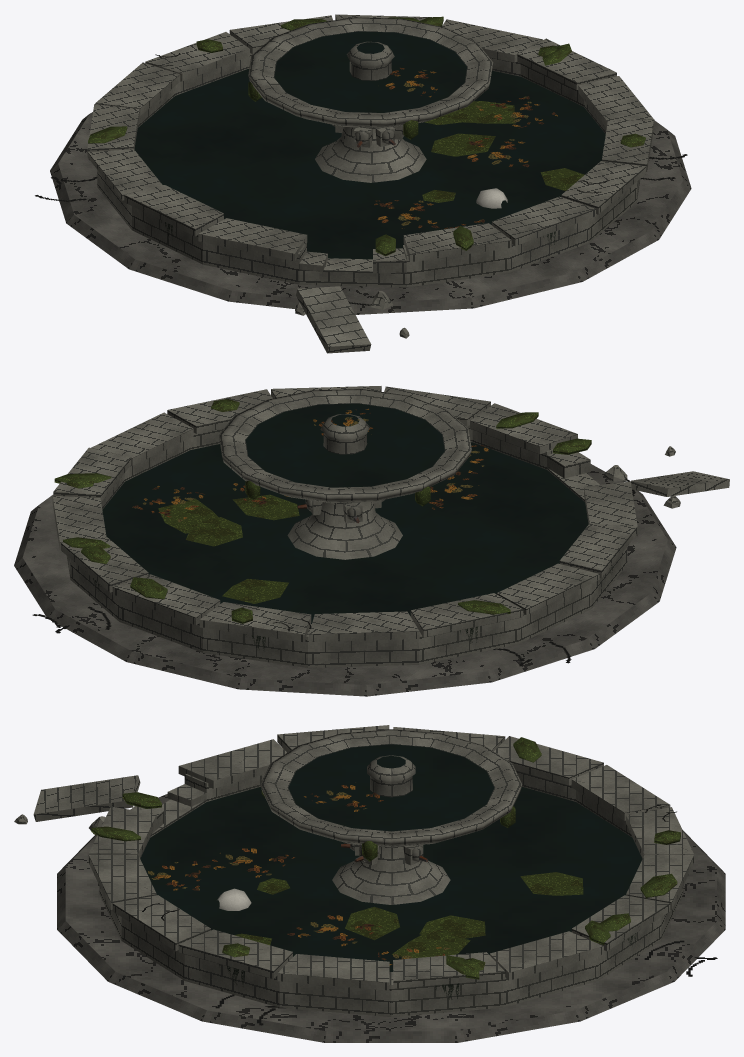
File: park_fountain.glb
3 renders of one model, top to bottom at view 1: azimuth 30°, elevation 25°; view 2: azimuth 150°, elevation 25°; view 3: azimuth 270°, elevation 25°, orthographic. The views are drawn at different scales.
Visible parts, largest first — view 1: fountain-col, detail; view 2: fountain-col, detail; view 3: fountain-col, detail.
Part boxes in pixels (x1,y1,x2,y2): fountain-col: (50, 14, 691, 314); detail: (35, 16, 687, 353); fountain-col: (14, 386, 676, 696); detail: (32, 399, 729, 666); fountain-col: (57, 725, 725, 1042); detail: (14, 737, 717, 1025).
Size of what is drawn, in the model's own units: 7.87 by 1.84 by 8.09.
Materials: 10 (10 with a texture image).
